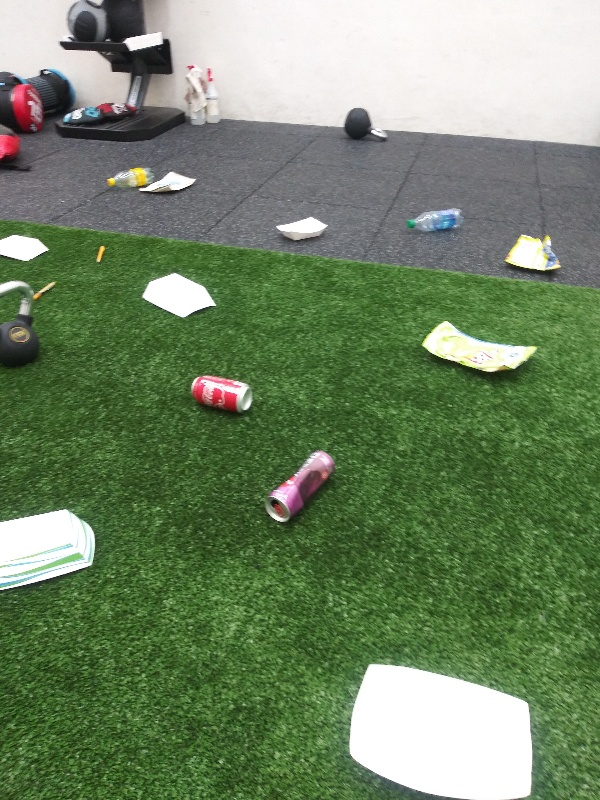bag: (415, 318, 543, 375), (501, 230, 563, 275), (137, 168, 202, 195)
bottle: (400, 206, 467, 238), (103, 164, 157, 191)
can: (263, 449, 338, 526), (186, 369, 261, 417)
plate: (344, 661, 538, 800), (1, 507, 98, 595), (140, 268, 220, 321), (272, 214, 331, 244), (1, 232, 53, 263)
